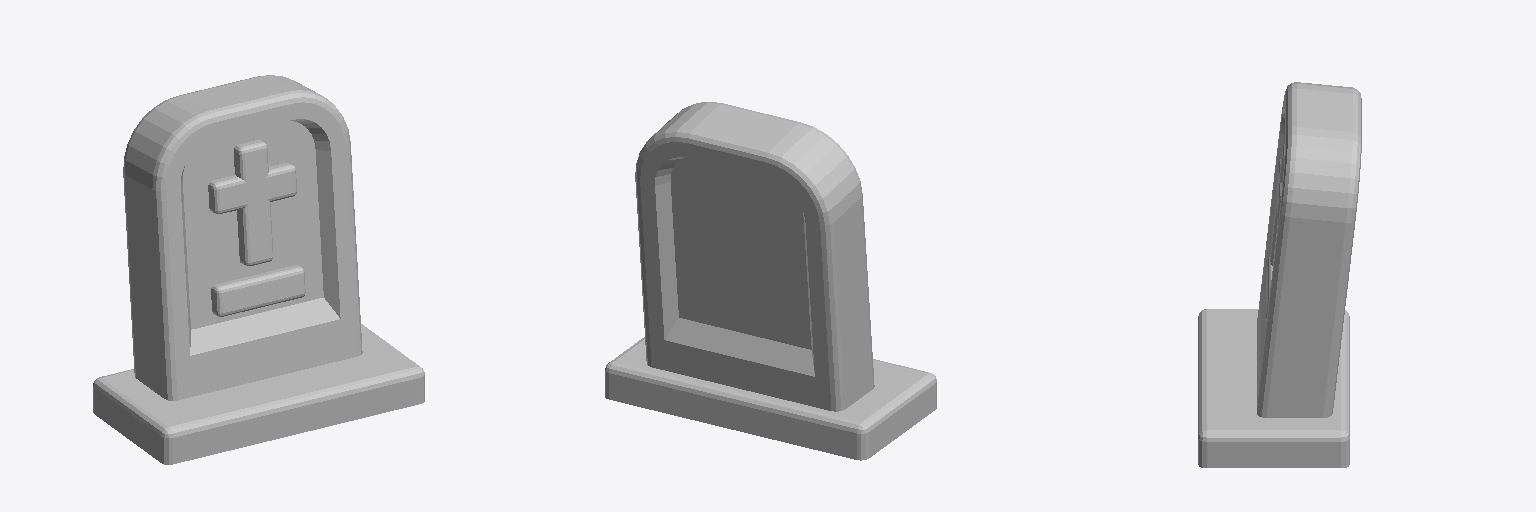
Rendered from gravestone.obj.
3 renders of one model, left to right at view 1: azimuth 30°, elevation 25°; view 2: azimuth 150°, elevation 25°; view 3: azimuth 270°, elevation 25°, orthographic.
Visible parts, largest first — view 1: gravestone_Cube.012; view 2: gravestone_Cube.012; view 3: gravestone_Cube.012.
Boxes of the visible parts, <box> form: gravestone_Cube.012: <box>93,75,424,464</box>; gravestone_Cube.012: <box>605,102,936,460</box>; gravestone_Cube.012: <box>1198,82,1361,467</box>.
Bounding box in the file's own units: 1.6 × 1.73 × 0.8635.